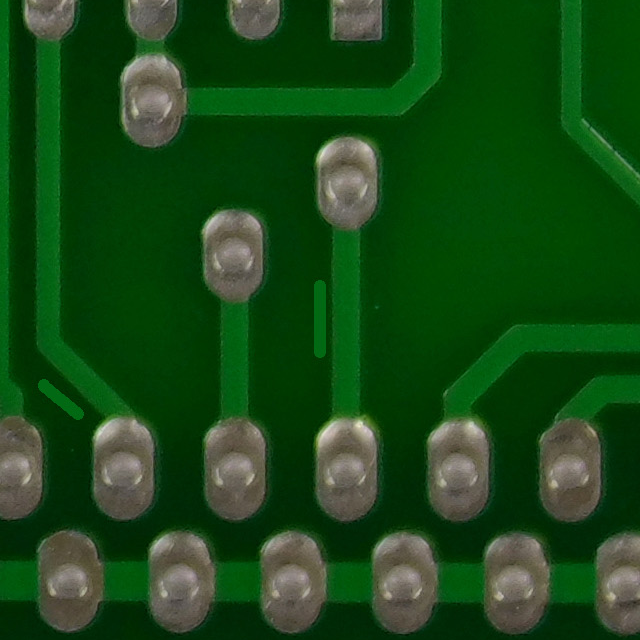spurious_copper: (290, 270, 351, 370), (13, 362, 97, 434)
